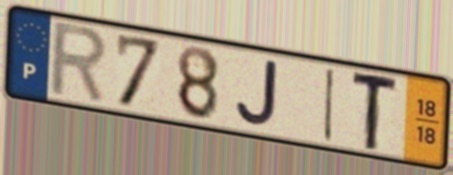7: (113, 30, 165, 112)
8: (175, 45, 222, 123)
I: (321, 65, 338, 145)
J: (233, 58, 280, 130)
R: (46, 19, 112, 109)
T: (349, 71, 402, 154)
